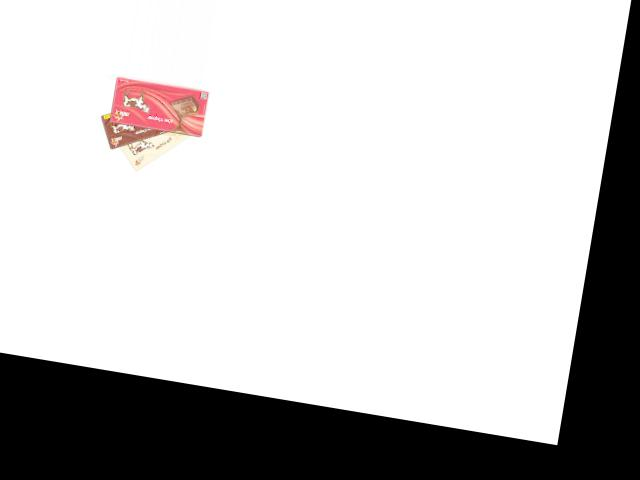chocolate: (106, 114, 200, 181)
